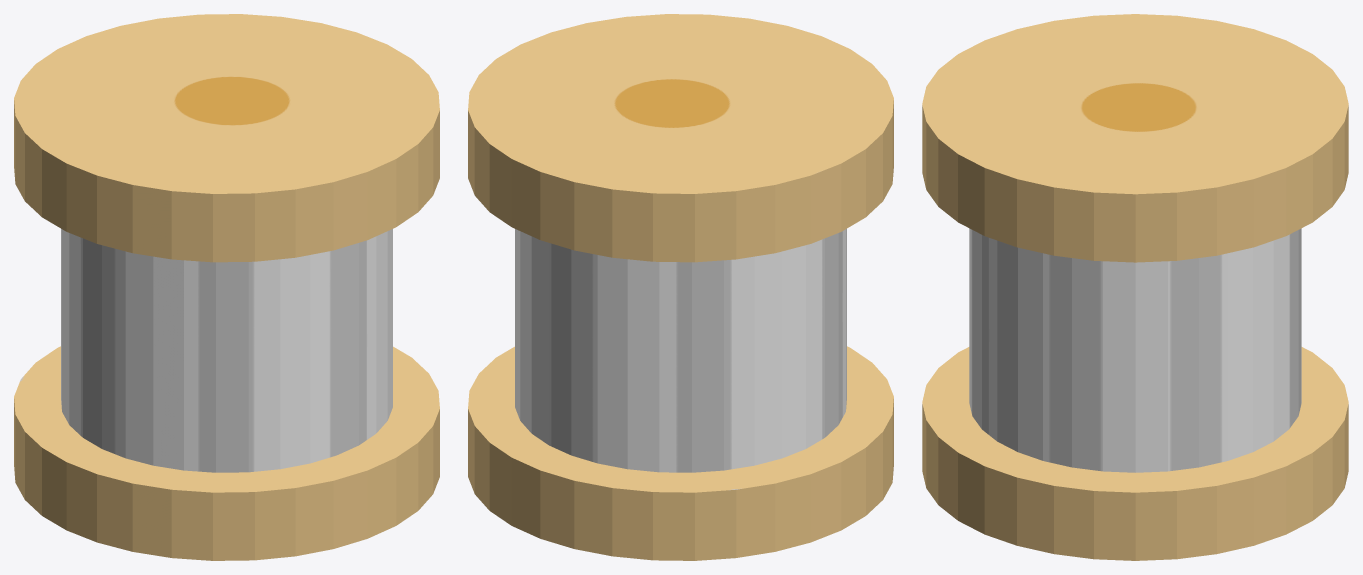
Rendered from nestMaterial.obj.
3 views of the same model, side by side, from view 1: azimuth 30°, elevation 25°; view 2: azimuth 150°, elevation 25°; view 3: azimuth 270°, elevation 25° (orthographic).
Visible parts, largest first — view 1: 円柱.002; view 2: 円柱.002; view 3: 円柱.002.
Part boxes in pixels (box(x1,y1,x2,y2)): 円柱.002: box(14, 14, 439, 560); 円柱.002: box(468, 14, 893, 560); 円柱.002: box(922, 14, 1348, 560).
Size of the model in its own units: 1.14 by 1.08 by 1.14.
